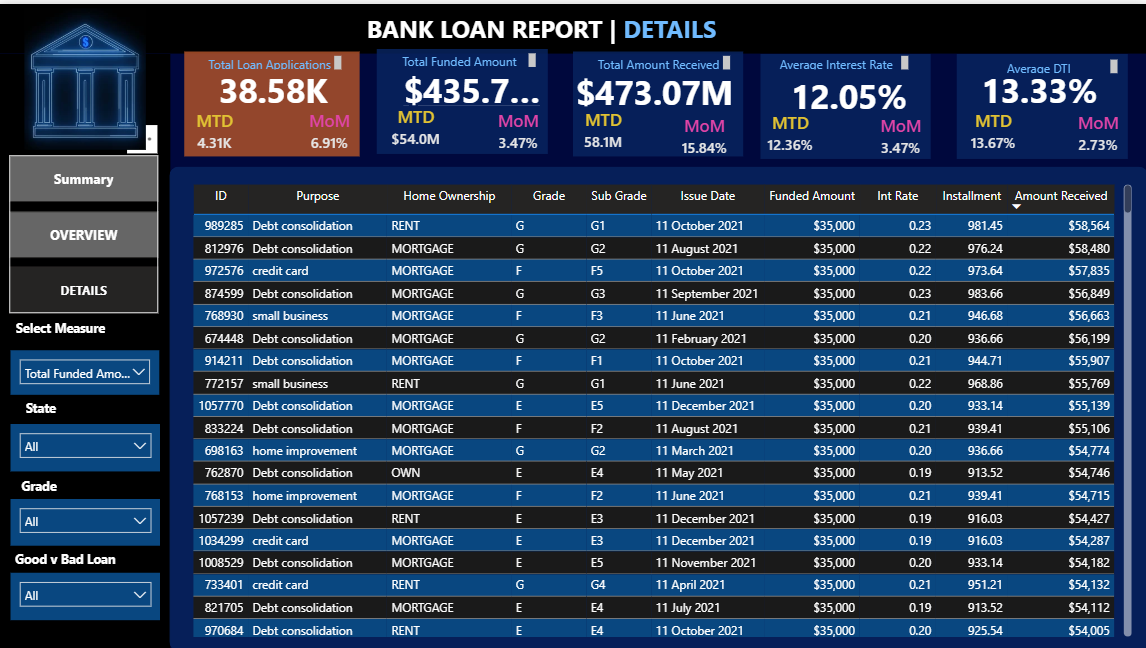

What the dashboard file says about the page in this screenshot:
{"tool":"powerbi","page":{"name":"DETAILS","canvas":[1280,720],"ordinal":2},"visuals":[{"type":"shape","box":[0,55.5,191.8,664.7],"z":0},{"type":"shape","box":[0,0,1280,55.5],"z":1000},{"type":"textbox","box":[381.2,4.8,447.6,45.8],"z":2000},{"type":"shape","box":[207.5,53.1,195.4,117],"z":3000},{"type":"textbox","box":[225.6,53.1,161.7,25.3],"z":4000},{"type":"card","title":"MTD","fields":{"Values":["financial_loan.MTD Loan Applications"]},"box":[207.5,117,67.6,50.7],"z":5000},{"type":"card","fields":{"Values":["financial_loan.Total Loan Applications"]},"box":[207.5,74.8,197.9,41],"z":6000},{"type":"card","title":"MoM","fields":{"Values":["financial_loan.Mom Loan Applications"]},"box":[335.4,117,67.6,50.7],"z":7000},{"type":"shape","box":[422.3,50.7,190.6,117],"z":8000},{"type":"card","title":"MTD","fields":{"Values":["financial_loan.MTD Funded Amount"]},"box":[430.7,112.2,67.6,50.7],"z":9000},{"type":"card","fields":{"Values":["financial_loan.Total Funded Amount"]},"box":[442.8,74.8,170.1,42.2],"z":10000},{"type":"card","title":"MoM","fields":{"Values":["financial_loan.Mom Total Funded Amount"]},"box":[545.3,117,67.6,50.7],"z":11000},{"type":"shape","box":[639.4,53.1,189.4,117],"z":12000},{"type":"textbox","box":[658.7,53.1,161.7,25.3],"z":13000},{"type":"card","title":"MTD","fields":{"Values":["financial_loan.MTD Total Amount Received"]},"box":[640.6,115.8,67.6,50.7],"z":14000},{"type":"card","fields":{"Values":["financial_loan.Total Amount Received"]},"box":[631,78.4,197.9,41],"z":15000},{"type":"card","title":"MoM","fields":{"Values":["financial_loan.Mom Total Amount Received"]},"box":[752.8,121.9,67.6,50.7],"z":16000},{"type":"shape","box":[849.3,55.5,189.4,117],"z":17000},{"type":"textbox","box":[855.4,53.1,162.9,25.3],"z":18000},{"type":"card","title":"MTD","fields":{"Values":["financial_loan.MTD Average Interest Rate"]},"box":[849.3,119.4,66.4,50.7],"z":19000},{"type":"card","fields":{"Values":["financial_loan.Average Interest Rate"]},"box":[849.3,82,196.6,41],"z":20000},{"type":"card","title":"MoM","fields":{"Values":["financial_loan.Mom Total Funded Amount"]},"box":[971.2,121.9,67.6,50.7],"z":21000},{"type":"shape","box":[1067.7,55.5,190.6,117],"z":22000},{"type":"textbox","box":[1073.7,56.7,177.3,25.3],"z":23000},{"type":"card","title":"MTD","fields":{"Values":["financial_loan.MTD Avg DTI"]},"box":[1073.7,117,67.6,50.7],"z":24000},{"type":"card","fields":{"Values":["financial_loan.Avg DTI"]},"box":[1060.5,74.8,197.9,41],"z":25000},{"type":"shape","box":[190.6,181,1089.4,539.3],"z":26000},{"type":"card","title":"MoM","fields":{"Values":["financial_loan.Mom Avg DTI"]},"box":[1190.8,119.4,67.6,50.7],"z":27000},{"type":"textbox","box":[430.7,50.7,172.5,25.3],"z":29000},{"type":"slicer","fields":{"Values":["financial_loan.address_state"]},"box":[13.3,468.1,166.5,53.1],"z":30000},{"type":"slicer","fields":{"Values":["financial_loan.Good V Bad Loan"]},"box":[13.3,633.4,166.5,53.1],"z":31000},{"type":"slicer","fields":{"Values":["financial_loan.grade"]},"box":[13.3,551.3,166.5,51.9],"z":32000},{"type":"textbox","box":[13.3,435.5,67.6,30.2],"z":33000},{"type":"textbox","box":[20.5,521.2,108.6,30.2],"z":34000},{"type":"textbox","box":[13.3,603.2,123.1,30.2],"z":35000},{"type":"slicer","fields":{"Values":["Select Measure.Select Measure"]},"box":[13.3,386.1,165.3,49.5],"z":36000},{"type":"textbox","box":[13.3,346.2,111,39.8],"z":37000},{"type":"tableEx","fields":{"Values":["financial_loan.id","financial_loan.purpose","financial_loan.home_ownership","financial_loan.grade","financial_loan.sub_grade","financial_loan.issue_date","financial_loan.Total Funded Amount","financial_loan.int_rate","financial_loan.installment","financial_loan.Total Amount Received"]},"box":[211.1,196.6,1055.6,512.7],"z":37001},{"type":"pageNavigator","box":[12.1,167.7,166.5,177.3],"z":37002},{"type":"image","box":[1.2,0,190.6,167.7],"z":37003}]}

Visuals, with their boxes in screenshot pixels (x1, y1, x2, y2), scaled from the page's 1280x720 canvas onto the 1146x648 screenshot:
shape: box(0, 50, 172, 647)
shape: box(0, 0, 1145, 50)
textbox: box(341, 4, 742, 46)
shape: box(186, 48, 361, 153)
textbox: box(202, 48, 347, 71)
"MTD" card: box(186, 105, 246, 151)
card - financial_loan.Total Loan Applications: box(186, 67, 363, 104)
"MoM" card: box(300, 105, 361, 151)
shape: box(378, 46, 549, 151)
"MTD" card: box(386, 101, 446, 147)
card - financial_loan.Total Funded Amount: box(396, 67, 549, 105)
"MoM" card: box(488, 105, 549, 151)
shape: box(572, 48, 742, 153)
textbox: box(590, 48, 735, 71)
"MTD" card: box(574, 104, 634, 150)
card - financial_loan.Total Amount Received: box(565, 71, 742, 107)
"MoM" card: box(674, 110, 735, 155)
shape: box(760, 50, 930, 155)
textbox: box(766, 48, 912, 71)
"MTD" card: box(760, 107, 820, 153)
card - financial_loan.Average Interest Rate: box(760, 74, 936, 111)
"MoM" card: box(870, 110, 930, 155)
shape: box(956, 50, 1127, 155)
textbox: box(961, 51, 1120, 74)
"MTD" card: box(961, 105, 1022, 151)
card - financial_loan.Avg DTI: box(949, 67, 1127, 104)
shape: box(171, 163, 1145, 647)
"MoM" card: box(1066, 107, 1127, 153)
textbox: box(386, 46, 540, 68)
slicer - financial_loan.address_state: box(12, 421, 161, 469)
slicer - financial_loan.Good V Bad Loan: box(12, 570, 161, 618)
slicer - financial_loan.grade: box(12, 496, 161, 543)
textbox: box(12, 392, 72, 419)
textbox: box(18, 469, 116, 496)
textbox: box(12, 543, 122, 570)
slicer - Select Measure.Select Measure: box(12, 347, 160, 392)
textbox: box(12, 312, 111, 347)
tableEx - financial_loan.id x financial_loan.purpose: box(189, 177, 1134, 638)
pageNavigator: box(11, 151, 160, 310)
image: box(1, 0, 172, 151)
